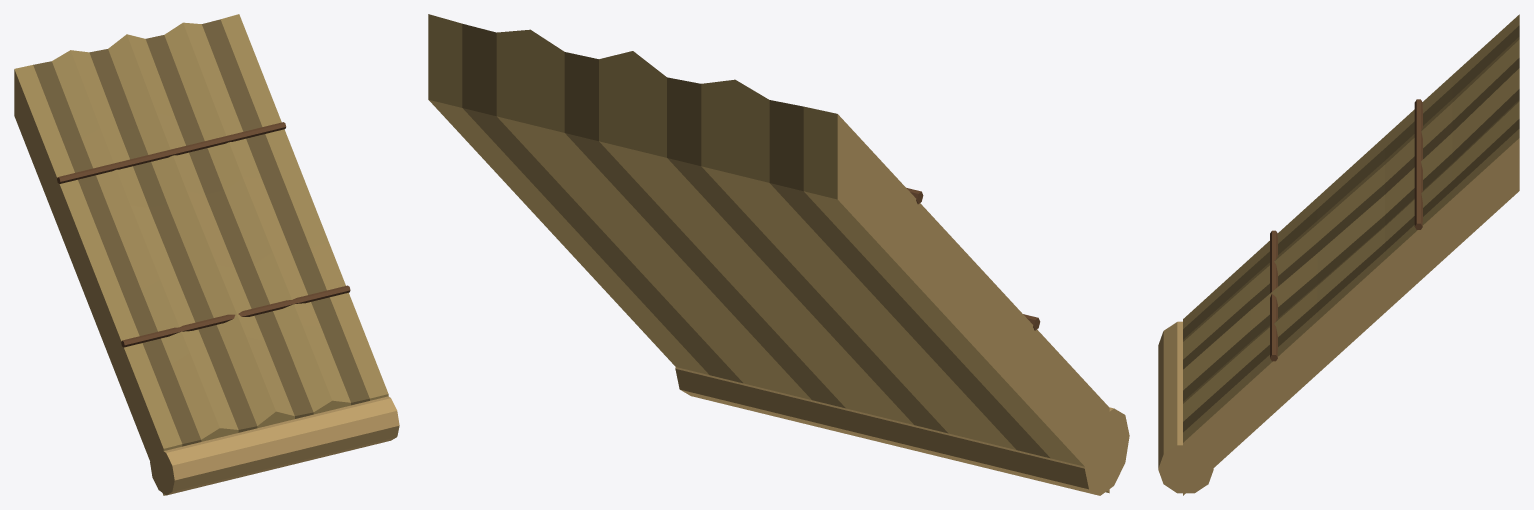
File: mdvl_village_thatch_straight_01.glb
3 renders of one model, left to right at view 1: azimuth 30°, elevation 25°; view 2: azimuth 150°, elevation 25°; view 3: azimuth 270°, elevation 25°, orthographic. The views are drawn at different scales.
Parts seen in each view (by area): view 1: mdvl_village_thatch_straight_01; view 2: mdvl_village_thatch_straight_01; view 3: mdvl_village_thatch_straight_01.
Part boxes in pixels (x1,y1,x2,y2): mdvl_village_thatch_straight_01: [14, 14, 399, 495]; mdvl_village_thatch_straight_01: [428, 14, 1129, 495]; mdvl_village_thatch_straight_01: [1158, 14, 1519, 495].
Bounding box in the file's own units: 2.01 × 2.76 × 2.47.
Materials: 1 (1 with a texture image).
